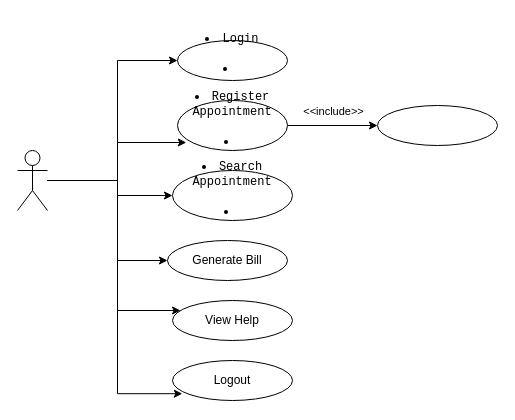
Some shapes in this 515 by 420 pixel diagram are drawn without their labels. The shapes that lost their labels are listed below. From the top down, each one's centre as x and y in pixels, then its label:
At point (437, 125): "Validate Input".
At point (32, 180): "Staff".
